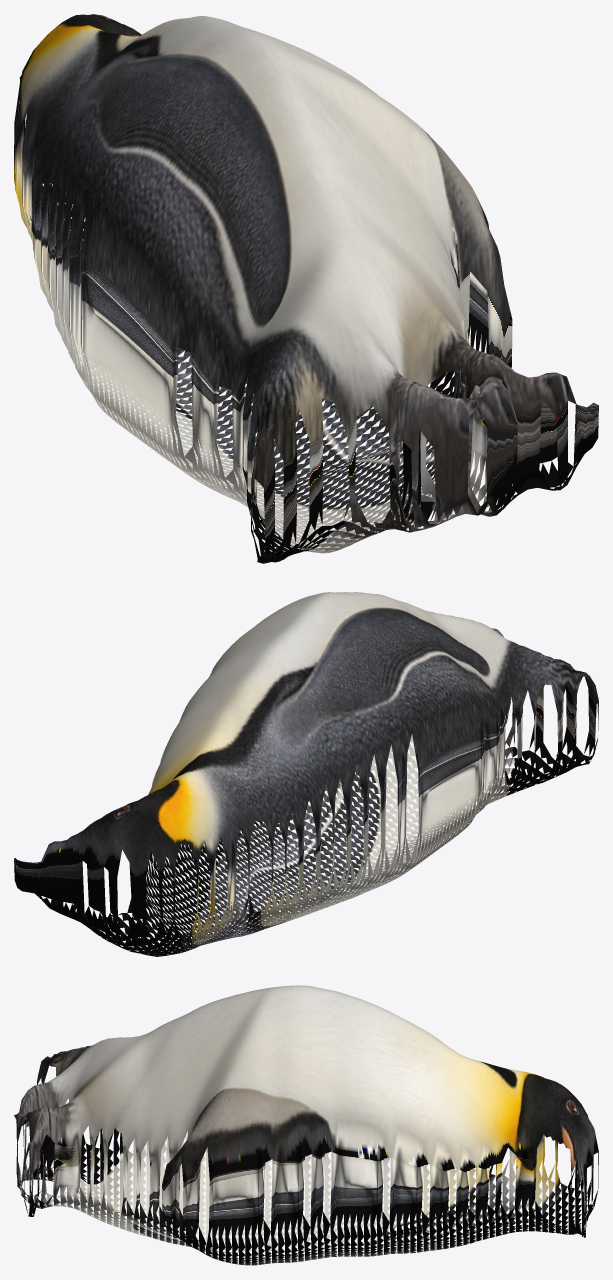
The model's file is penguin.glb.
3 views of the same model, one above another, from view 1: azimuth 30°, elevation 25°; view 2: azimuth 150°, elevation 25°; view 3: azimuth 270°, elevation 25° (orthographic). The views are drawn at different scales.
Parts seen in each view (by area): view 1: penguin_obj; view 2: penguin_obj; view 3: penguin_obj.
Part boxes in pixels (x1,y1,x2,y2): penguin_obj: [14, 14, 598, 563]; penguin_obj: [14, 592, 598, 956]; penguin_obj: [14, 985, 598, 1265].
Size of the model in its own units: 0.9569 by 0.9501 by 1.85.
Materials: 1 (1 with a texture image).
